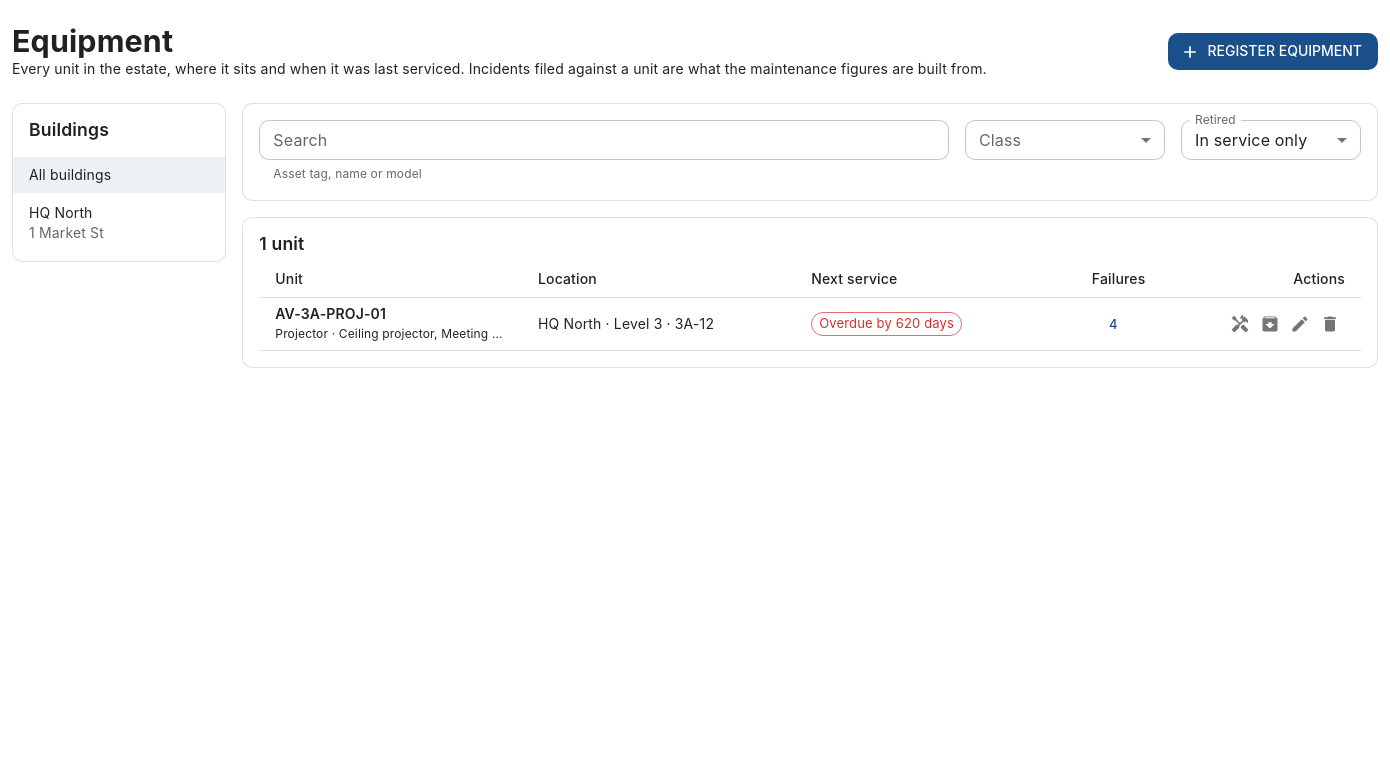
Scenario: writing to the register › records a service against a unit
Click the button named "Record a service for AV-3A-PROJ-01" at (1240, 324), box [1225,309,1255,339]
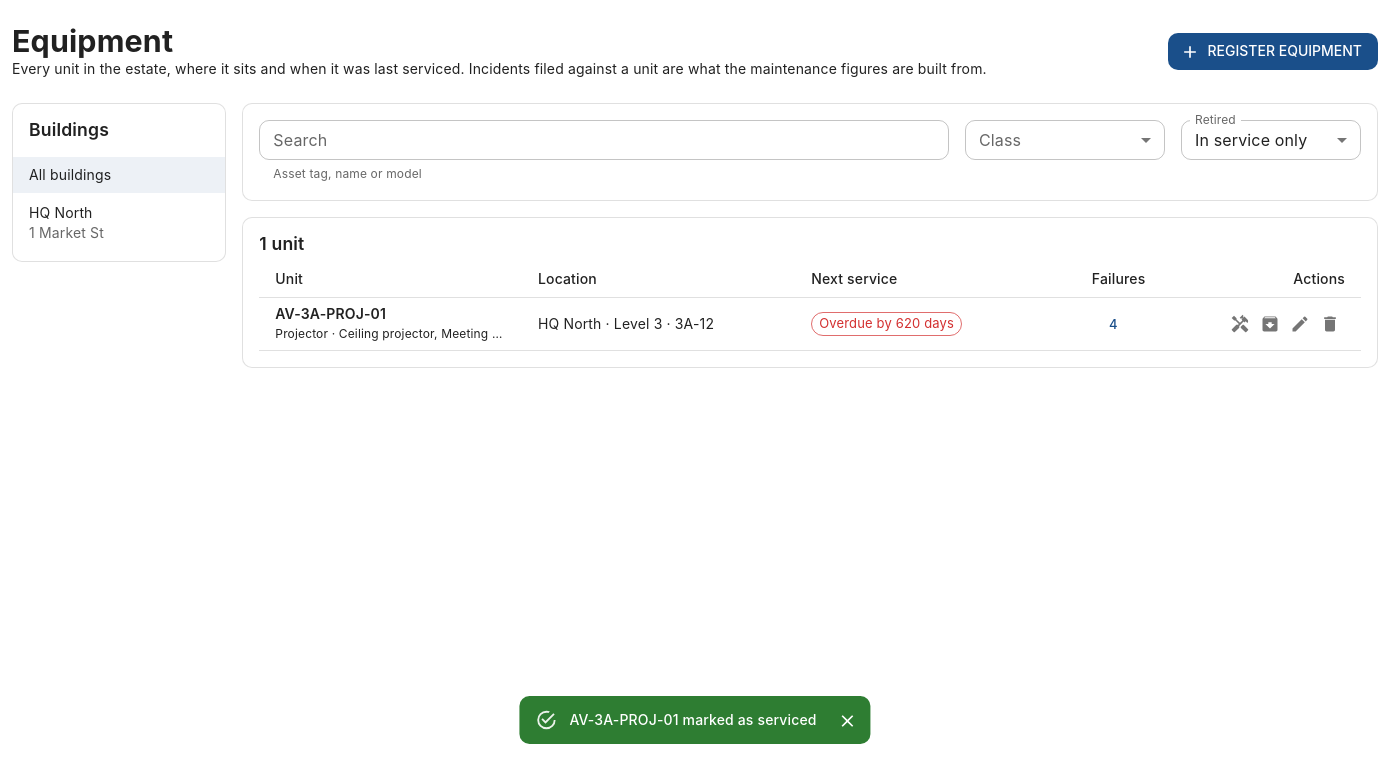
expect the text "AV-3A-PROJ-01 marked as serviced" is shown: met, box [569,711,817,728]
